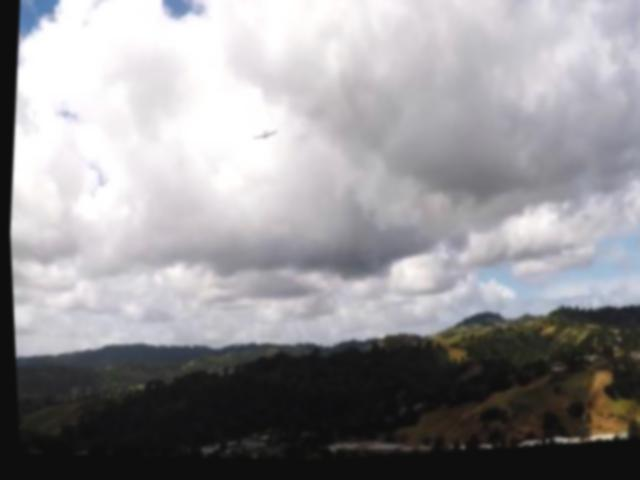uav: (247, 125, 280, 149)
